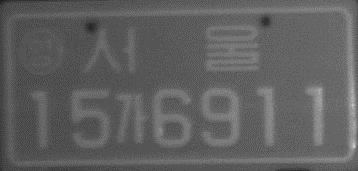1: (25, 88, 56, 151), (300, 82, 329, 148), (253, 83, 280, 150)
5: (68, 86, 113, 150)
6: (149, 87, 194, 149)
9: (197, 86, 244, 150)
가: (112, 91, 149, 148)
서울_D: (80, 21, 262, 77)
영: (18, 26, 65, 76)
